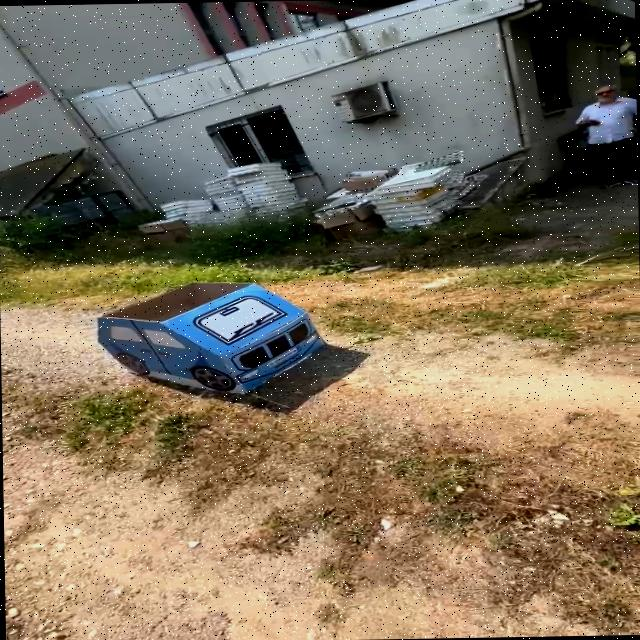blue_car: (72, 268, 360, 411)
